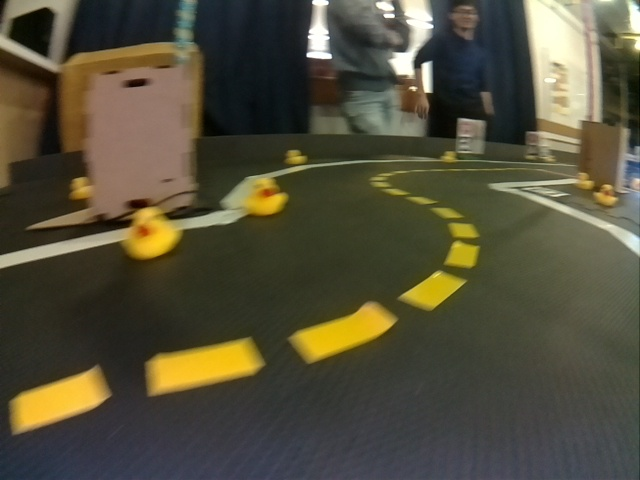Duckie: (123, 209, 177, 258), (246, 182, 286, 215), (68, 179, 92, 197), (595, 186, 615, 204), (286, 149, 306, 165), (575, 172, 592, 188), (443, 151, 453, 161)
